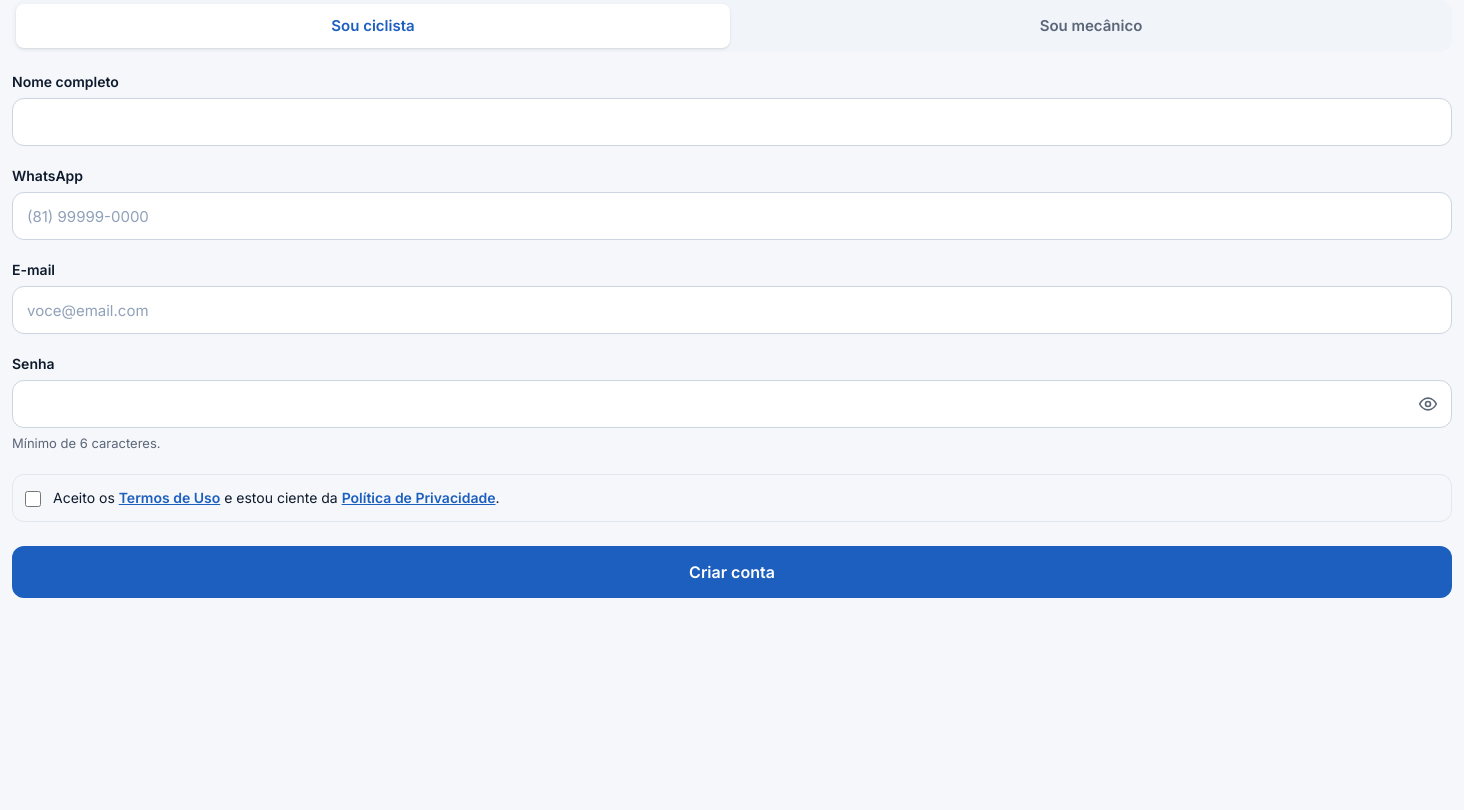
SignupForm › exibe confirmação após uma resposta de cadastro bem-sucedida
Type "Ana Ciclista" into the field labelled "Nome completo" at (732, 122), box [12,98,1452,146]
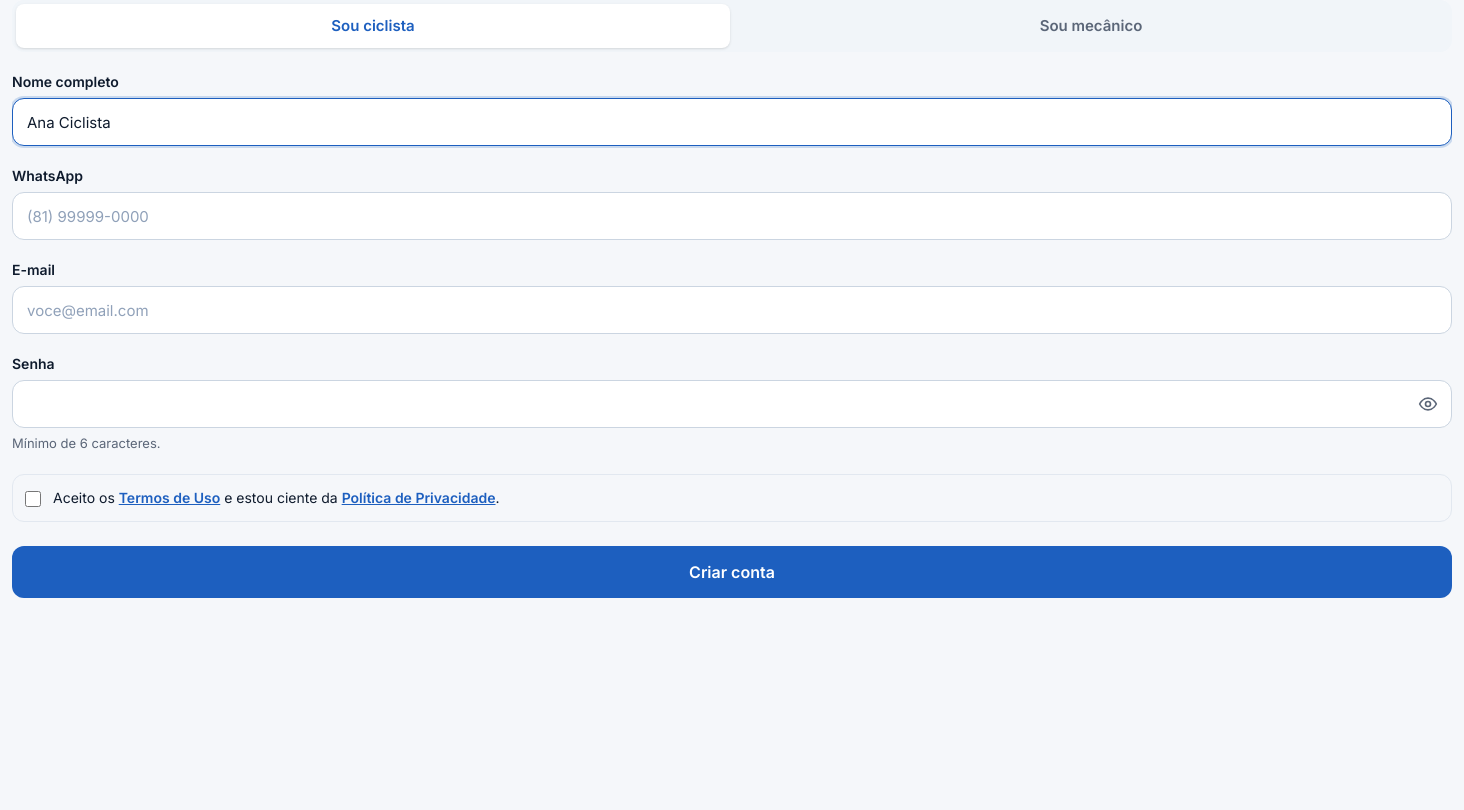
Type "81999990000" into the field labelled "WhatsApp" at (732, 216), box [12,192,1452,240]
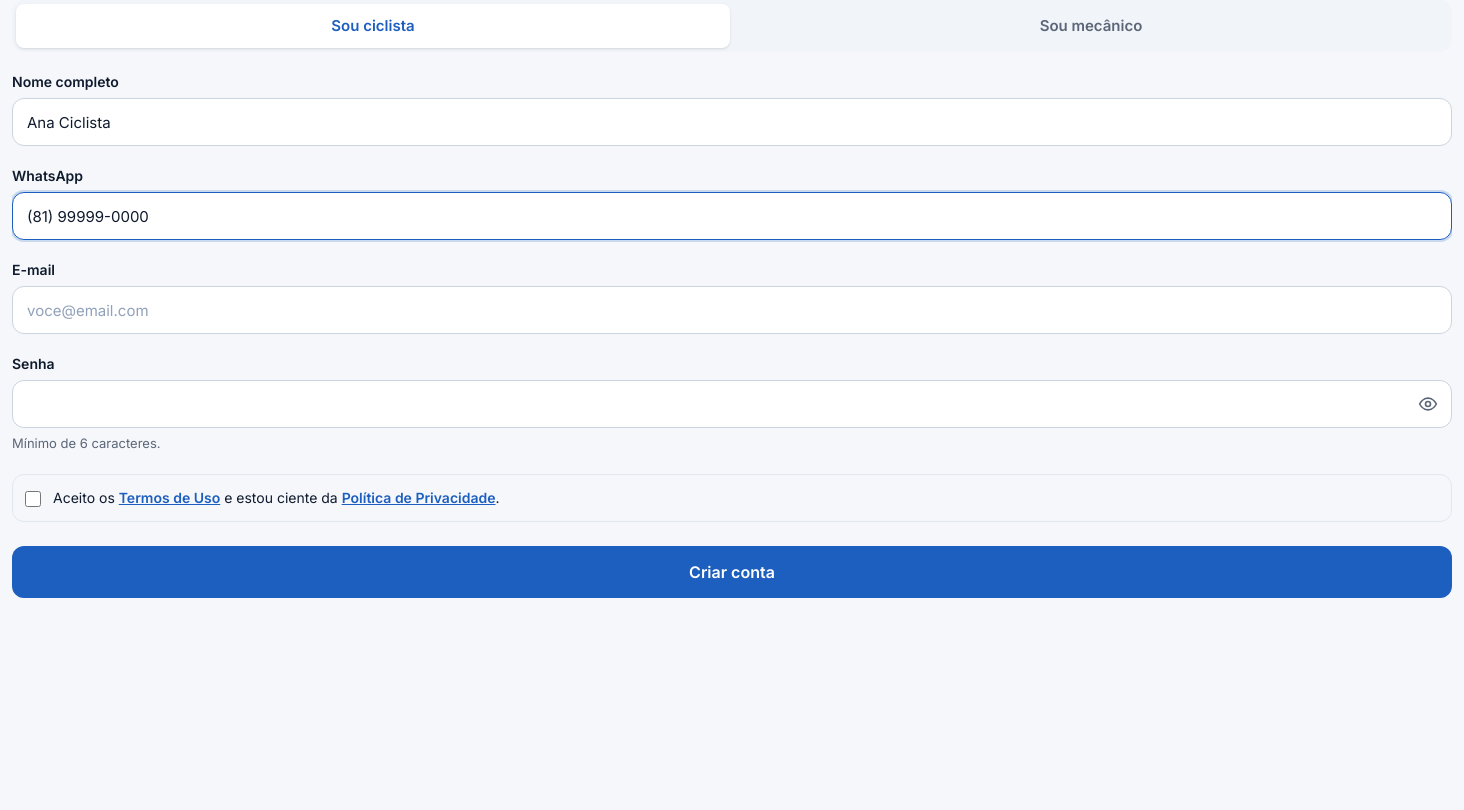
Type "ana@example.com" into the field labelled "E-mail" at (732, 310), box [12,286,1452,334]
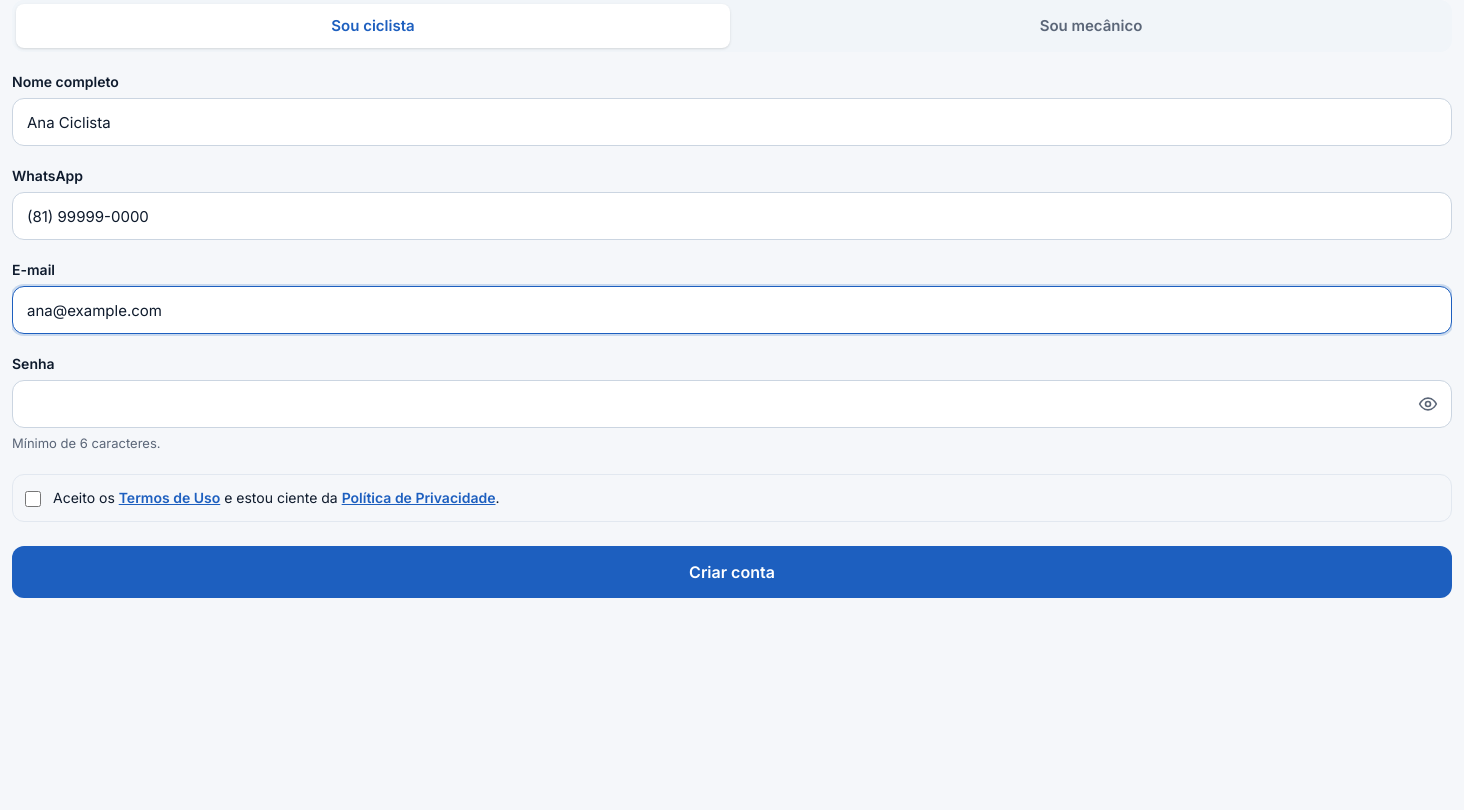
Type "senha-segura" into the password field labelled "Senha" at (732, 404), box [12,380,1452,428]
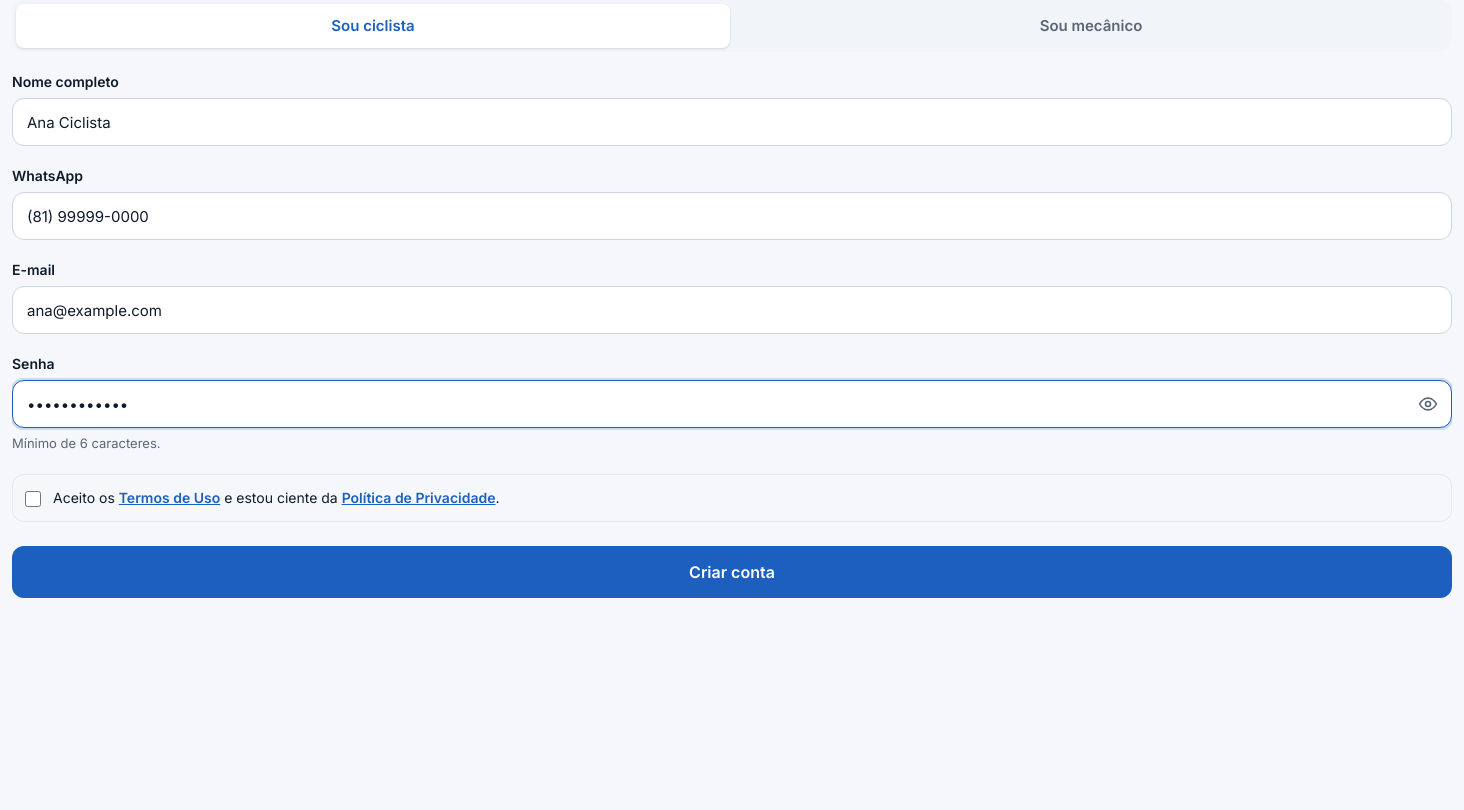
Click the checkbox at (33, 498), box [25,490,41,506]
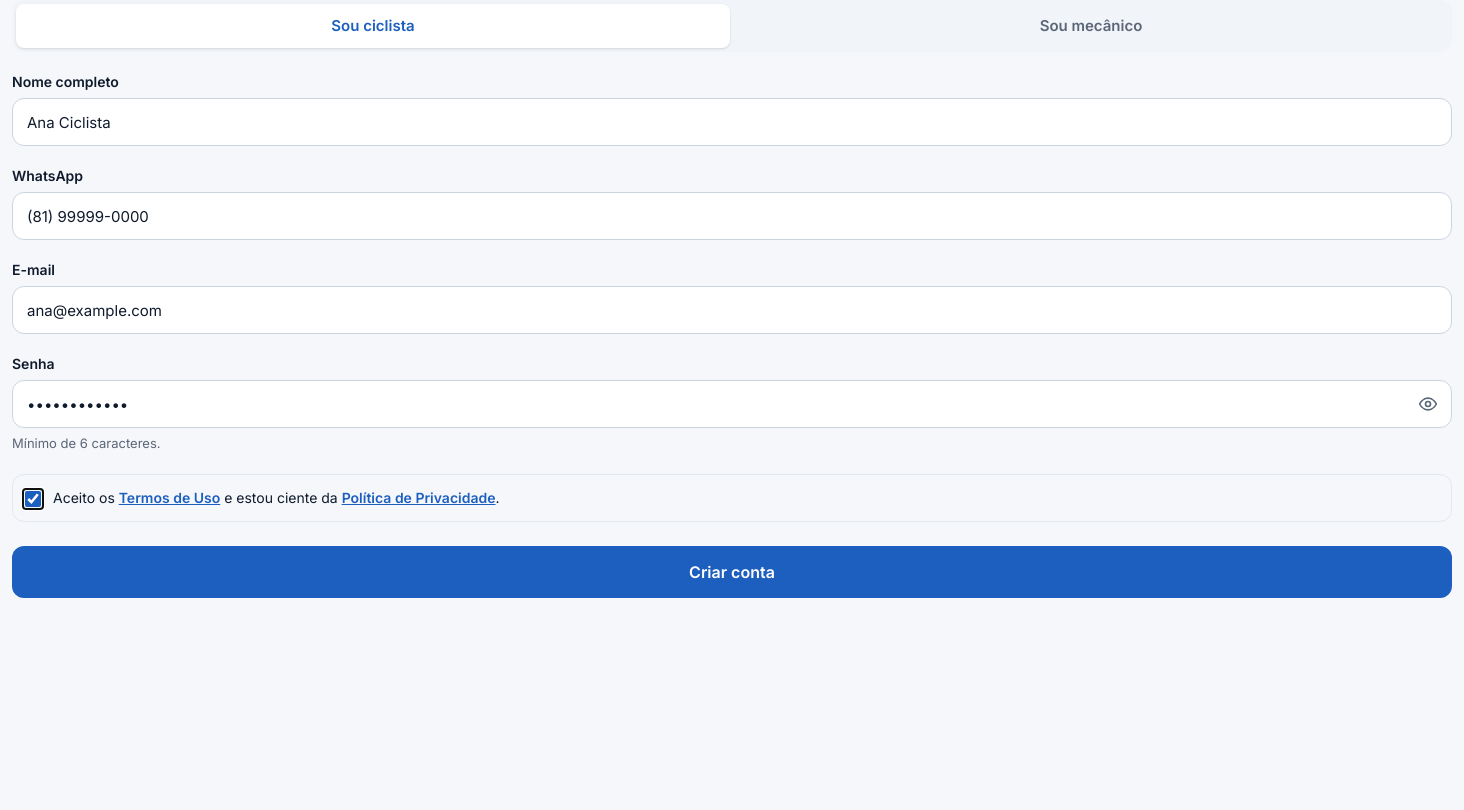
Click the button "Criar conta" at (732, 572), box [12,546,1452,598]
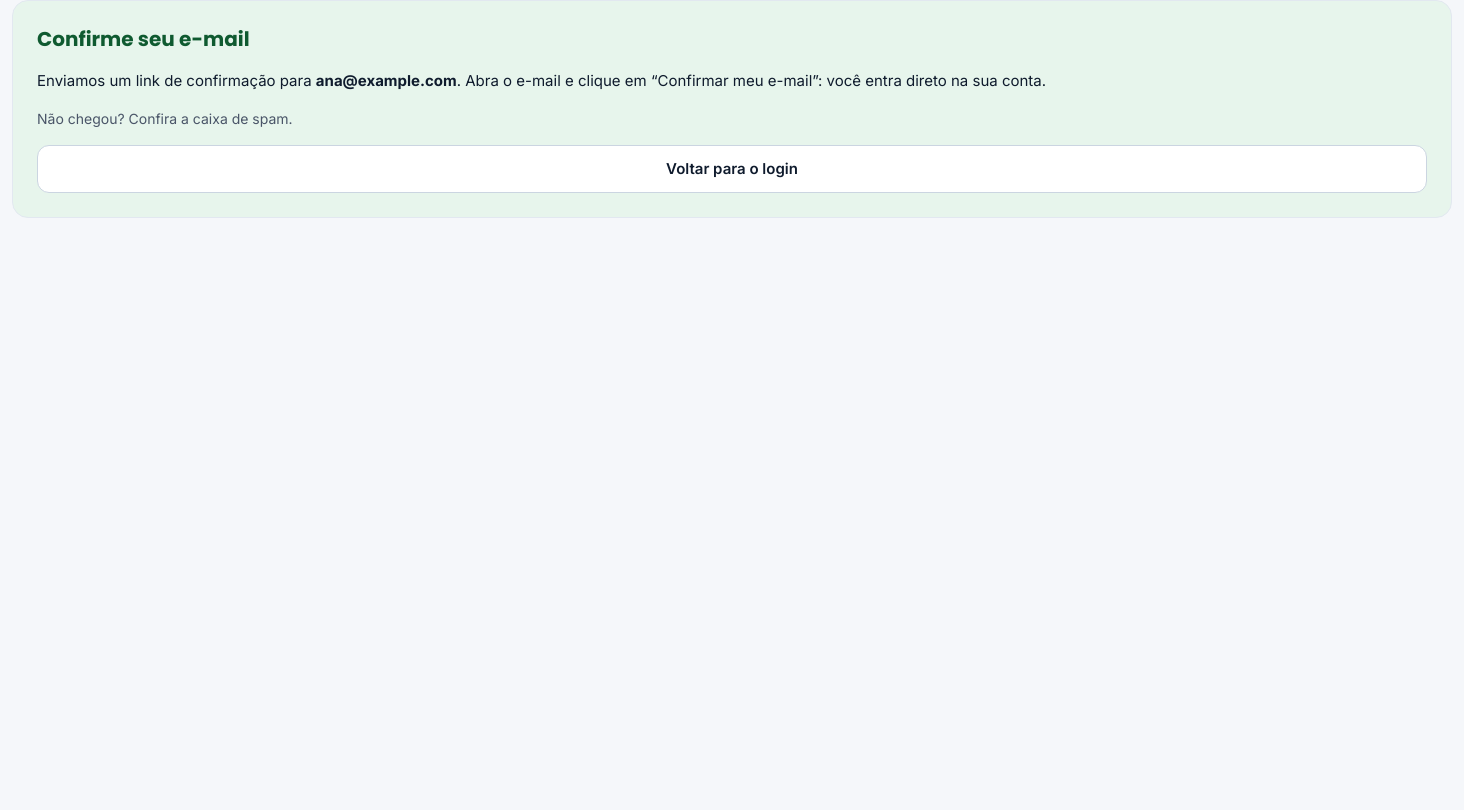
Now the message shows "Confirme seu e-mail", box [37,25,250,53]
Now the text "ana@example.com" is shown, box [316,71,457,90]
